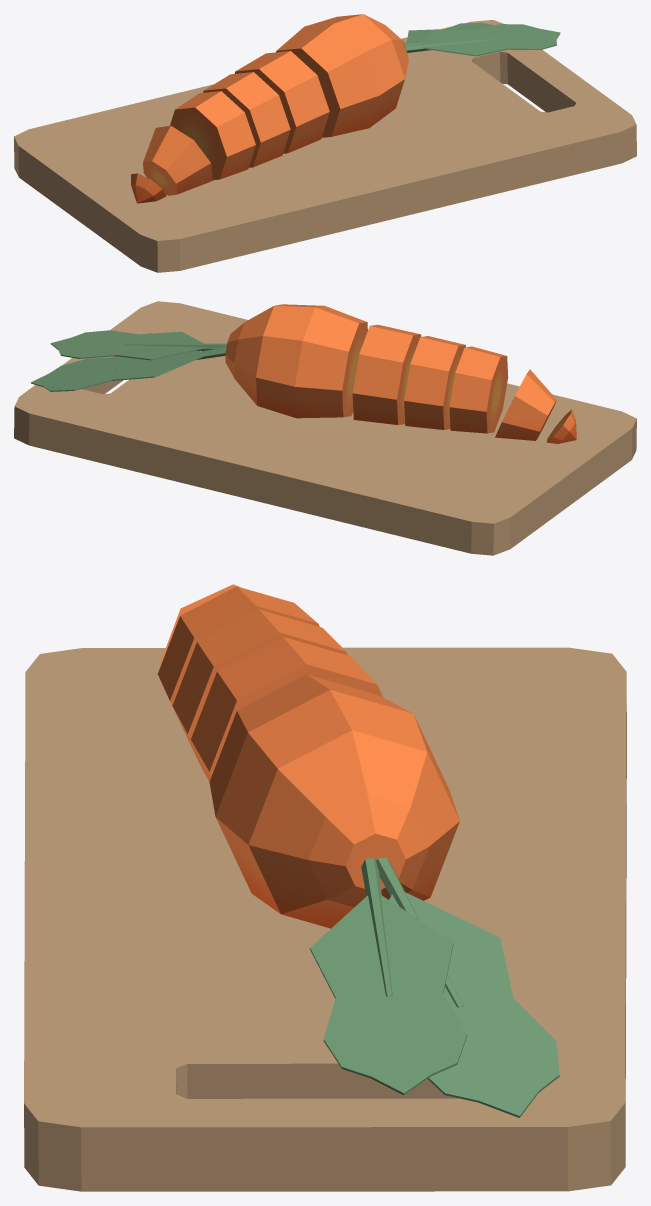
Rendered from Carrots&Cutting_Board.fbx.
3 views of the same model, one above another, from view 1: azimuth 30°, elevation 25°; view 2: azimuth 150°, elevation 25°; view 3: azimuth 270°, elevation 25° (orthographic). The views are drawn at different scales.
Parts seen in each view (by area): view 1: Carrots&Cutting_Board; view 2: Carrots&Cutting_Board; view 3: Carrots&Cutting_Board.
Part boxes in pixels (x1,y1,x2,y2): Carrots&Cutting_Board: (14,14,636,272); Carrots&Cutting_Board: (14,301,636,555); Carrots&Cutting_Board: (24,584,626,1191).
Bounding box in the file's own units: 0.7971 × 0.2062 × 0.4158.
1 material, 1 textured.
